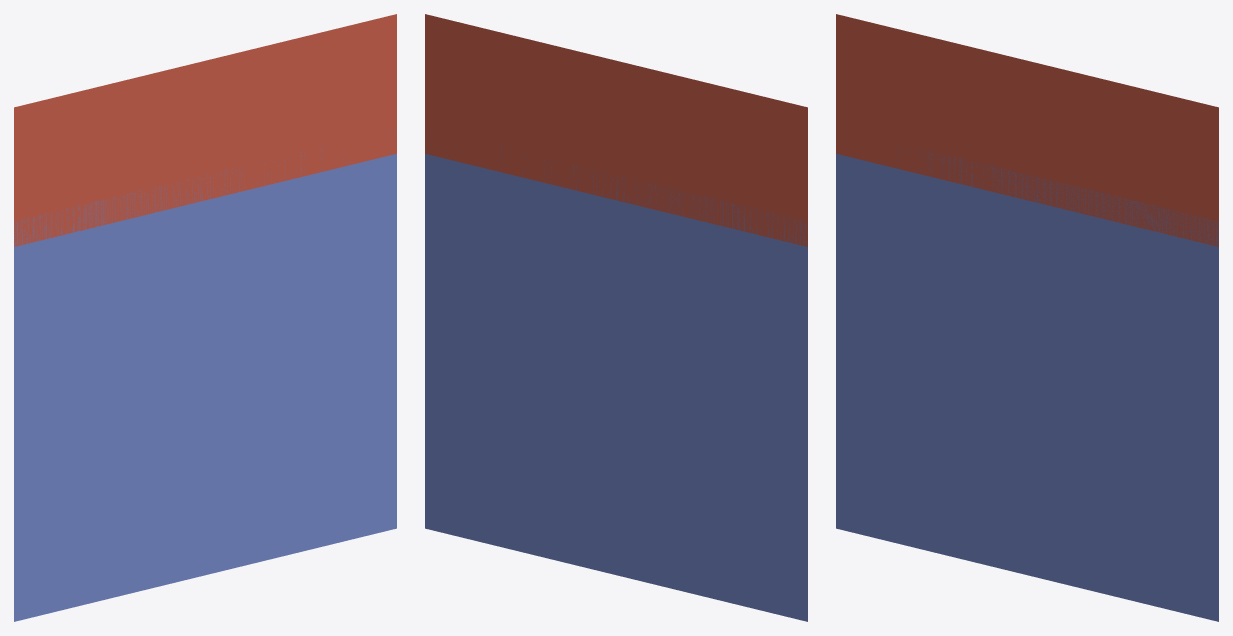
The model's file is wallChunk.fbx.
3 renders of one model, left to right at view 1: azimuth 30°, elevation 25°; view 2: azimuth 150°, elevation 25°; view 3: azimuth 330°, elevation 25°, orthographic.
Visible parts, largest first — view 1: wall; view 2: wall; view 3: wall.
Boxes of the visible parts, left/top/right/bottom form: wall: left=14, top=14, right=396, bottom=621; wall: left=425, top=14, right=807, bottom=621; wall: left=836, top=14, right=1218, bottom=621.
Bounding box in the file's own units: 1 × 1.28 × 0.
